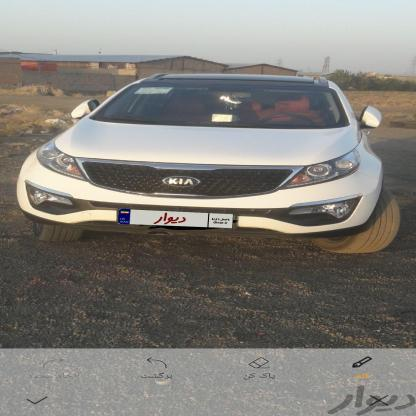Car: (0, 71, 416, 251)
